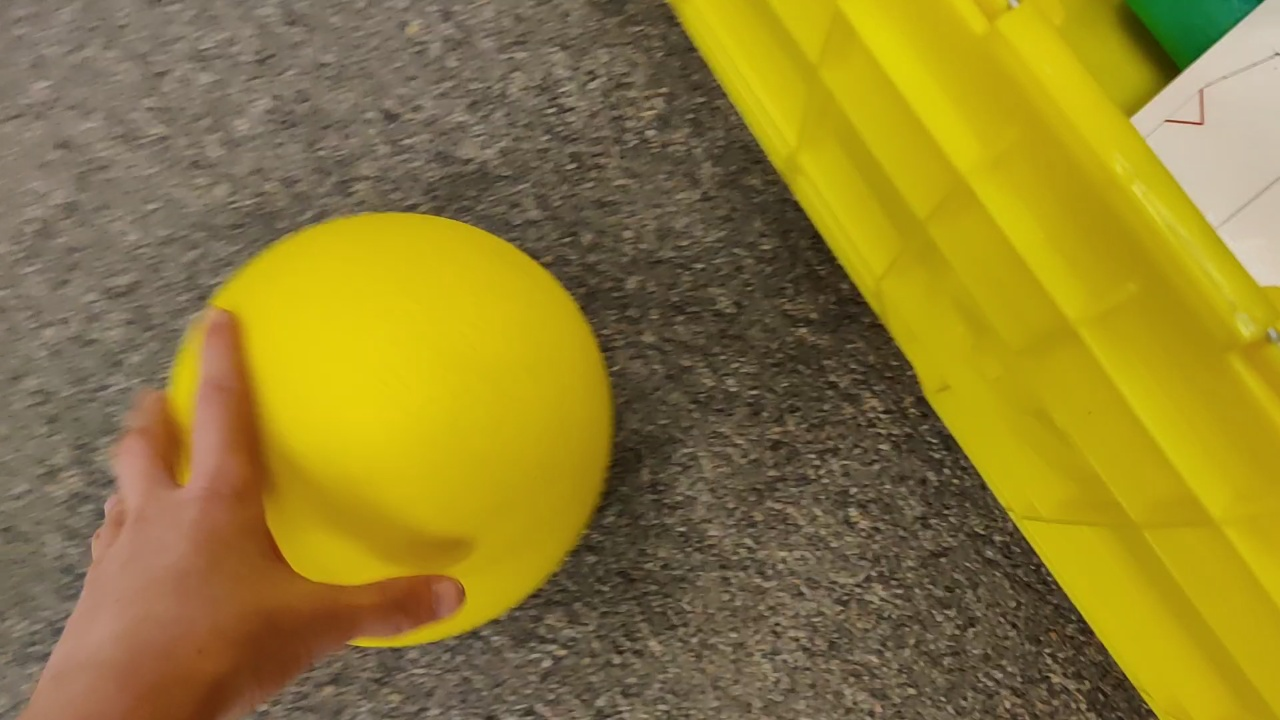Ball: (172, 215, 620, 641)
